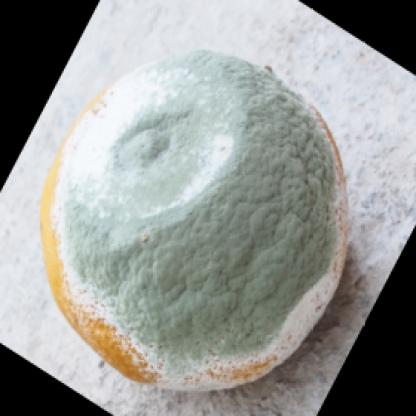rotten: (42, 44, 351, 392)
